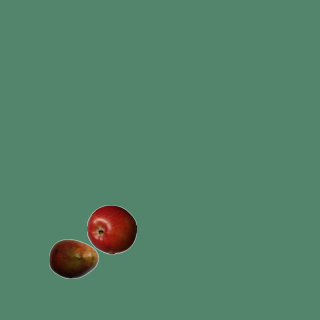Apple Braeburn: (86, 204, 136, 254)
Mango Red: (48, 233, 98, 283)
